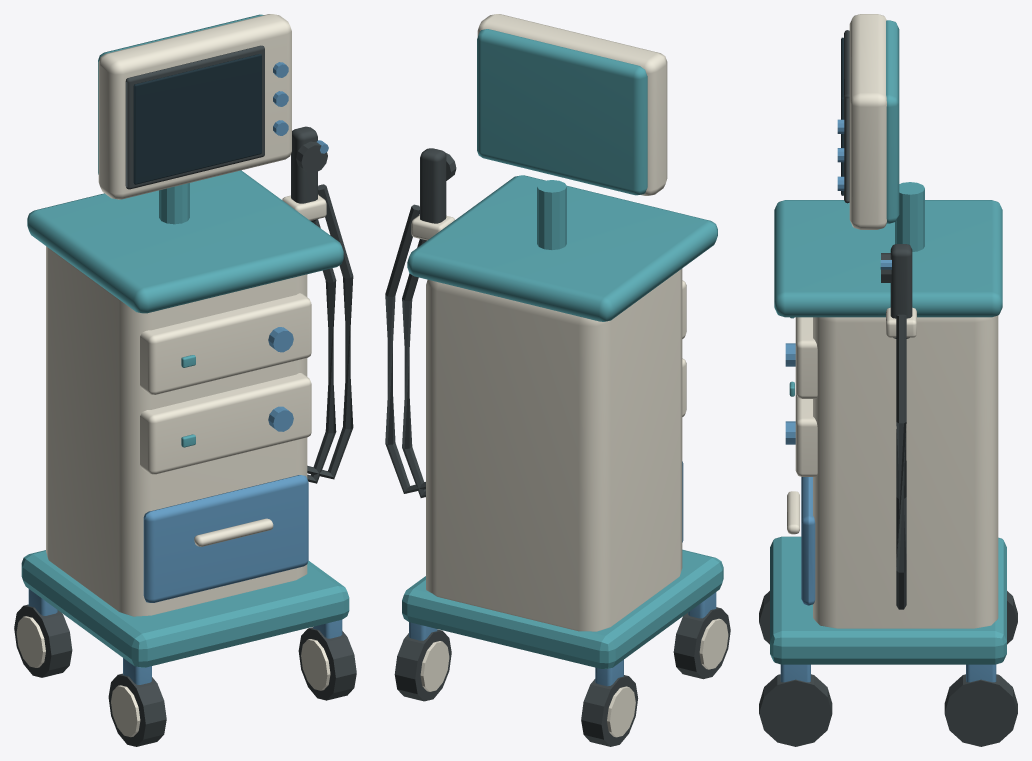
Rendered from endoscopy_tower_standard.glb.
The picture shows the model from 3 angles, left to right: view 1: azimuth 30°, elevation 25°; view 2: azimuth 150°, elevation 25°; view 3: azimuth 270°, elevation 25°; orthographic projection.
Visible parts, largest first — view 1: STATIC_endoscopy_tower_standard; view 2: STATIC_endoscopy_tower_standard; view 3: STATIC_endoscopy_tower_standard.
Part boxes in pixels (x1=…): STATIC_endoscopy_tower_standard: x1=14, y1=14, x2=356, y2=746; STATIC_endoscopy_tower_standard: x1=385, y1=14, x2=730, y2=746; STATIC_endoscopy_tower_standard: x1=759, y1=14, x2=1017, y2=746.
Size of the model in its own units: 0.7408 by 1.65 by 0.6.
